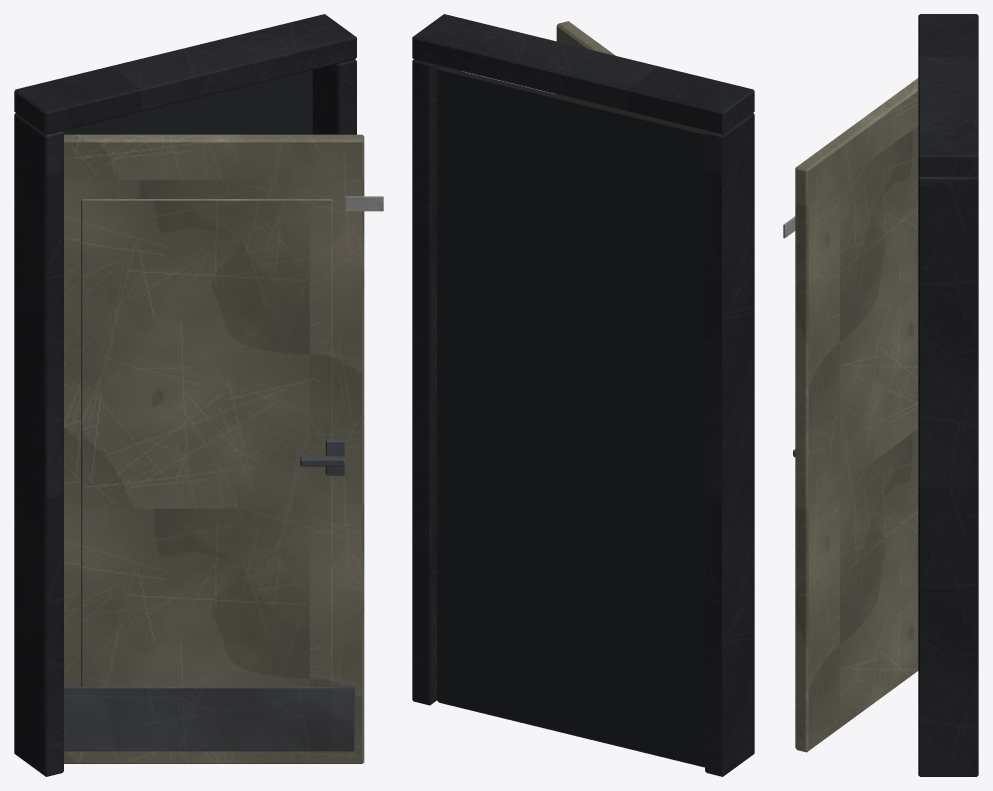
File: door_plain.glb
The picture shows the model from 3 angles, left to right: view 1: azimuth 30°, elevation 25°; view 2: azimuth 150°, elevation 25°; view 3: azimuth 270°, elevation 25°; orthographic projection. The views are drawn at different scales.
Visible parts, largest first — view 1: door, frame; view 2: frame, door; view 3: door, frame.
Part boxes in pixels (<box>): door: <box>64,134,383,763</box>; frame: <box>14,14,356,776</box>; frame: <box>412,14,754,776</box>; door: <box>556,21,705,130</box>; door: <box>783,78,918,752</box>; frame: <box>918,14,978,776</box>.
Size of the model in its own units: 1.12 by 2.28 by 0.6481.
Materials: 5 (4 with a texture image).
